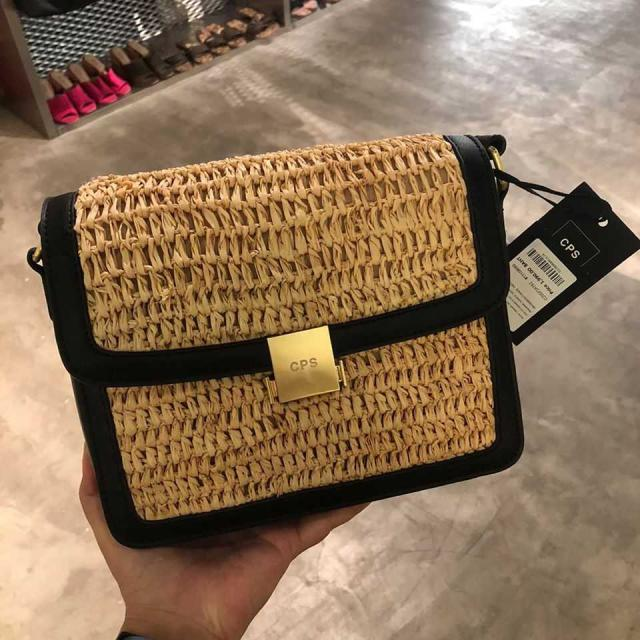Handbag: (29, 133, 523, 544)
